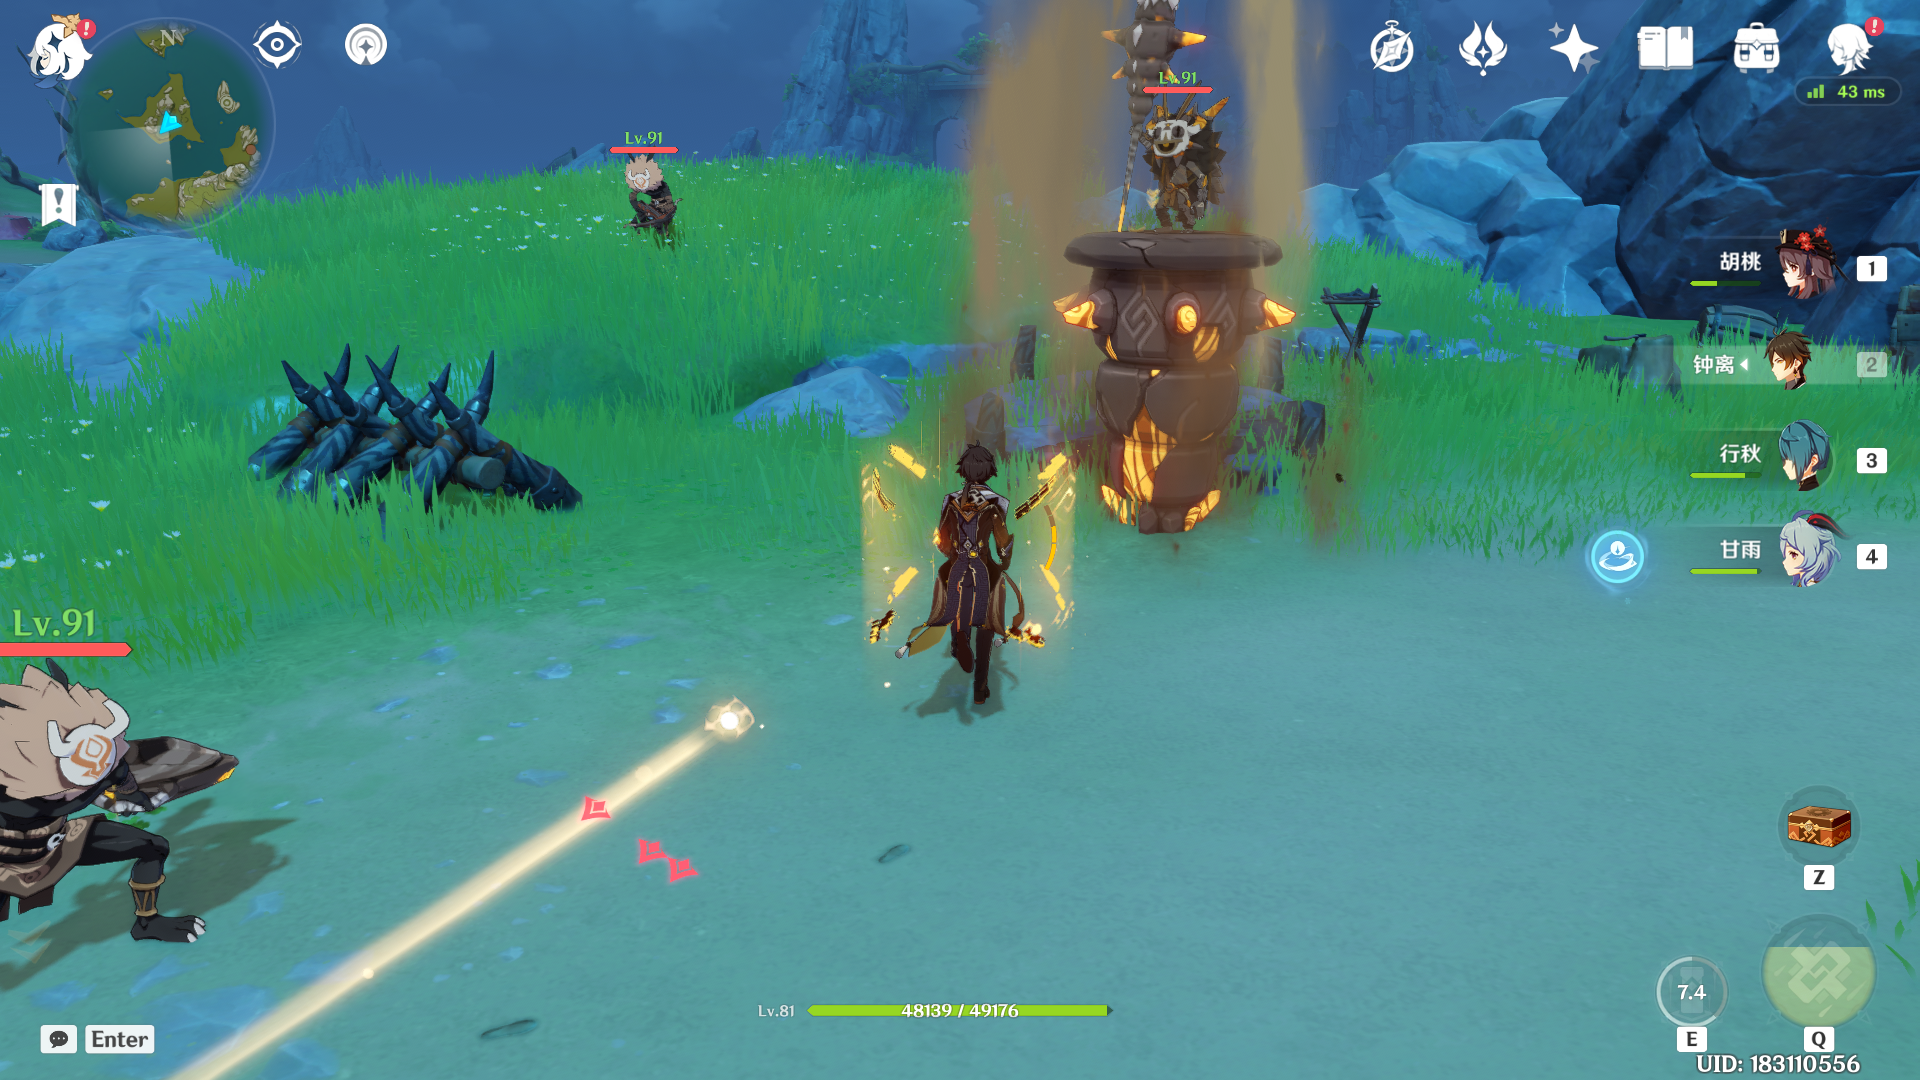character: (852, 413, 1091, 753)
hili: (1, 675, 262, 984), (1087, 5, 1257, 256), (597, 127, 707, 260)
